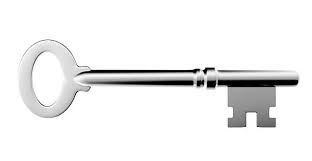key: (13, 33, 304, 140)
